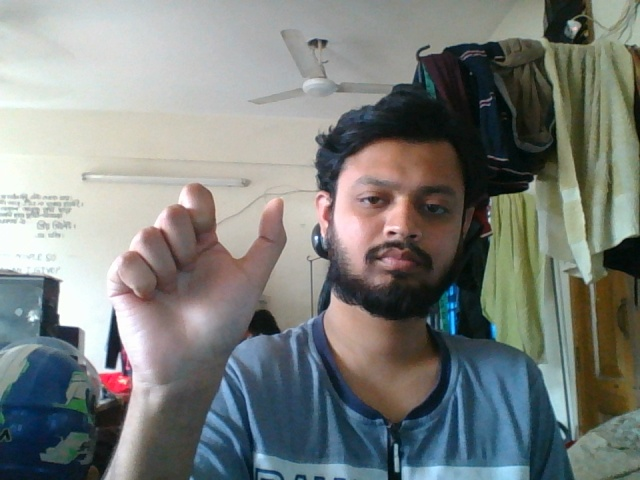dho: (96, 173, 302, 456)
